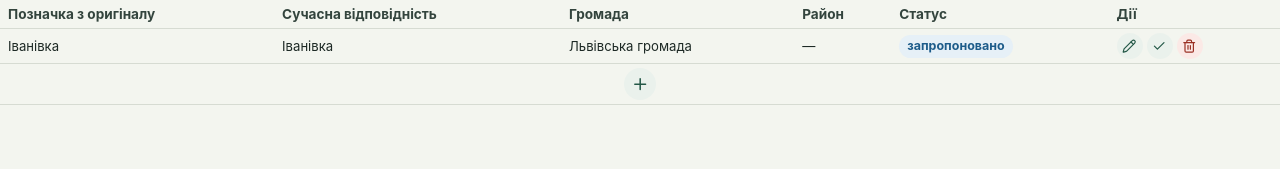
Test: SettlementsTable › swaps a data row for the inline form when the edit action is used
Click the button named "Редагувати" at (1130, 46), box [1117,33,1143,59]
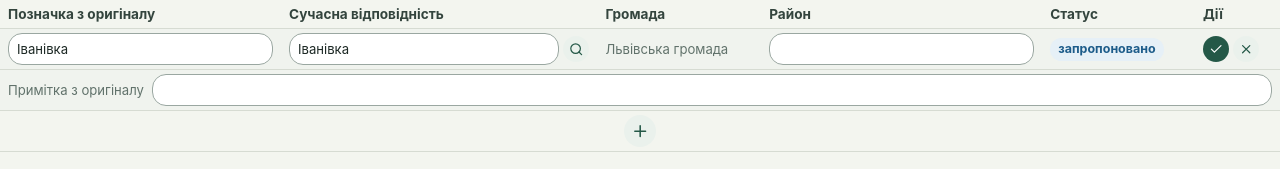
Now the field named "Позначка з оригіналу" holds "Іванівка", box [8,33,273,65]
